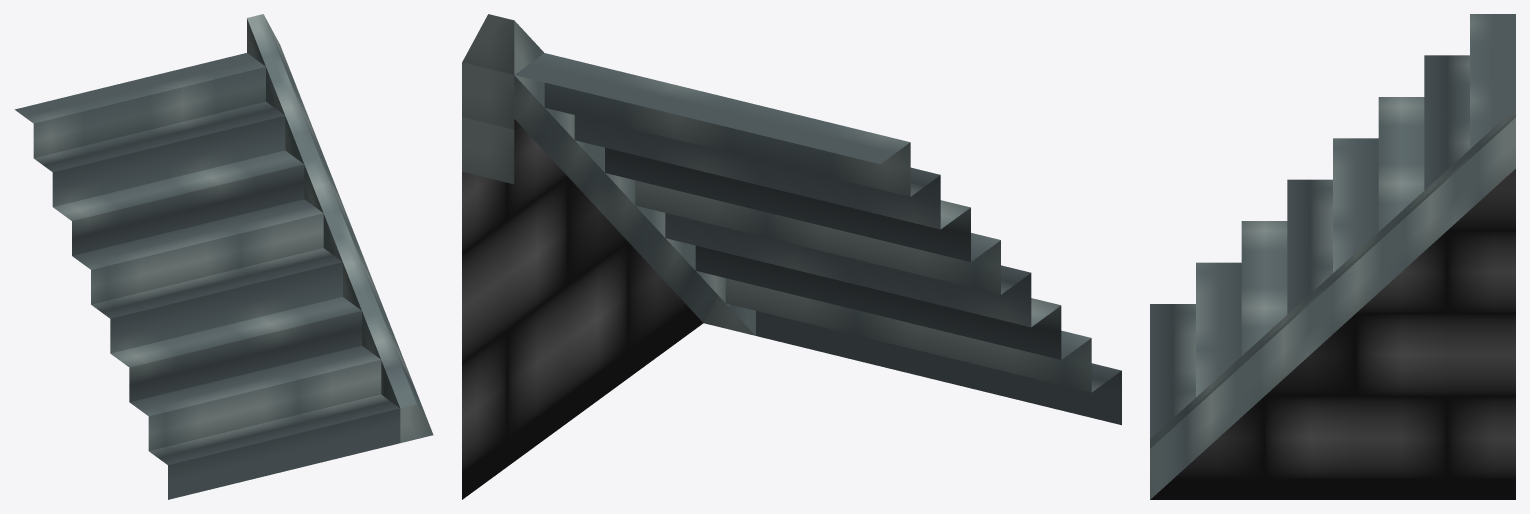
Rendered from stair_right.obj.
3 renders of one model, left to right at view 1: azimuth 30°, elevation 25°; view 2: azimuth 150°, elevation 25°; view 3: azimuth 270°, elevation 25°, orthographic. The views are drawn at different scales.
Visible parts, largest first — view 1: Default; view 2: Default; view 3: Default.
Boxes of the visible parts, x1,y1,x2,y2 form: Default: (14, 14, 433, 499); Default: (462, 14, 1121, 499); Default: (1150, 14, 1515, 499).
Size of the model in its own units: 1 by 1.12 by 1.
